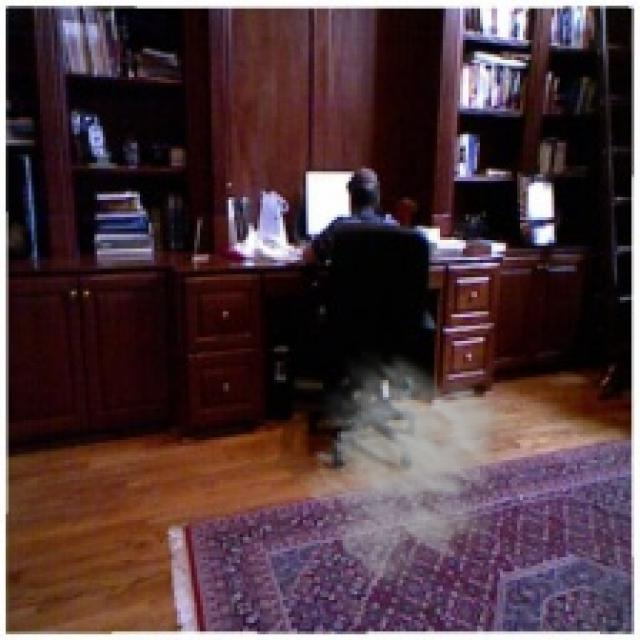smoke: (297, 346, 540, 594)
